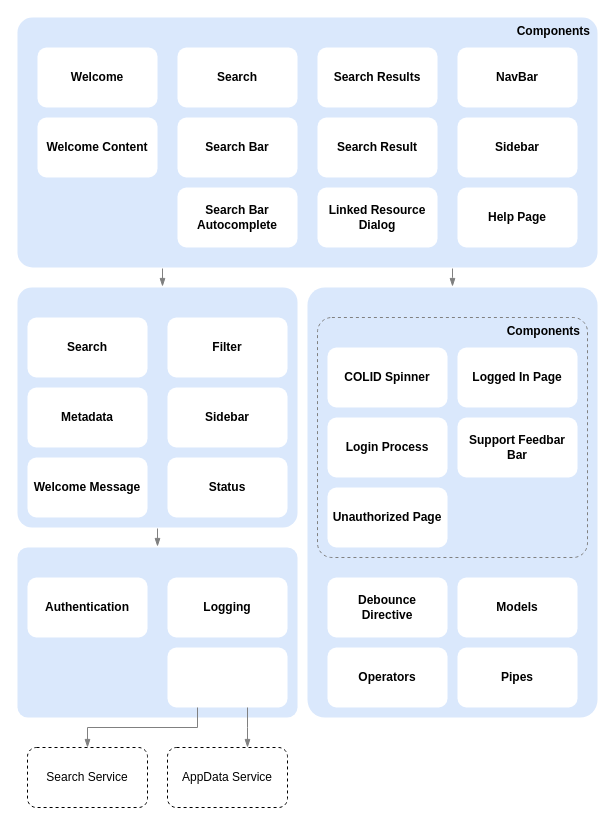
This 614x825 diagram has some shape labels left out. The box of each missing label's shape, as (x1, y1, x2, y2) in pixels:
Core: (17, 547, 297, 717)
HTTP API Services: (167, 647, 287, 707)
NGXS States: (17, 287, 297, 527)
Shared: (307, 287, 597, 717)
